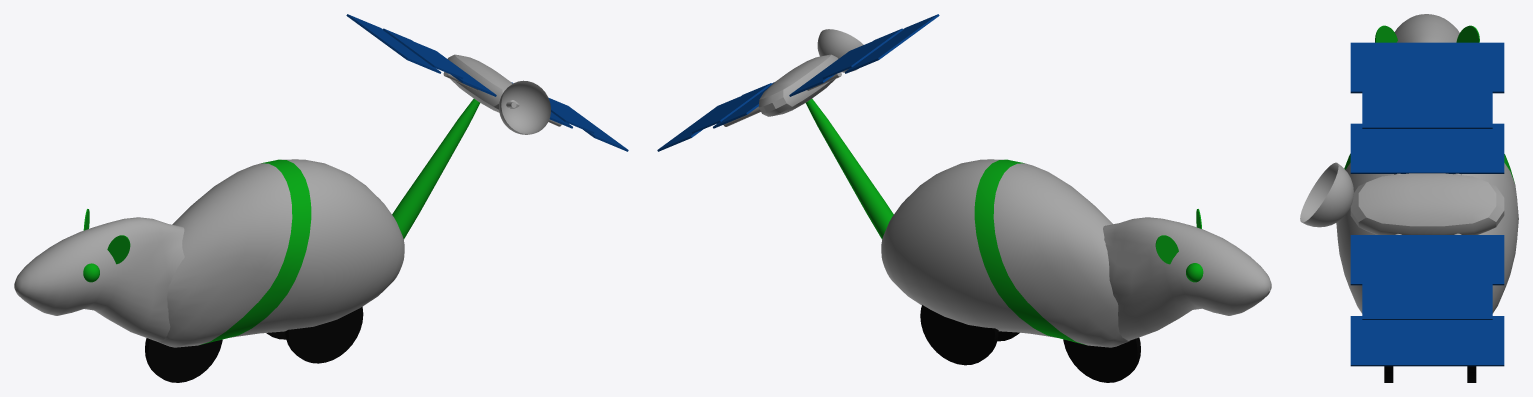
File: rat.fbx
3 views of the same model, side by side, from view 1: azimuth 30°, elevation 25°; view 2: azimuth 150°, elevation 25°; view 3: azimuth 270°, elevation 25° (orthographic). The views are drawn at different scales.
Visible parts, largest first — view 1: tete, Sphere, Cylinder, Cylinder.003, Cylinder.001, ears; view 2: tete, Sphere, Cylinder.004, Cylinder, Cylinder.001, ears; view 3: Sphere, tete, ears.
Part boxes in pixels (x1=…): tete: x1=14, y1=159, x2=404, y2=347; Sphere: x1=346, y1=14, x2=628, y2=151; Cylinder: x1=392, y1=99, x2=479, y2=239; Cylinder.003: x1=285, y1=306, x2=363, y2=363; Cylinder.001: x1=145, y1=338, x2=222, y2=382; ears: x1=83, y1=209, x2=130, y2=264; tete: x1=881, y1=159, x2=1271, y2=347; Sphere: x1=657, y1=14, x2=939, y2=151; Cylinder.004: x1=920, y1=305, x2=998, y2=365; Cylinder: x1=806, y1=99, x2=893, y2=239; Cylinder.001: x1=1063, y1=337, x2=1140, y2=382; ears: x1=1155, y1=209, x2=1201, y2=264; Sphere: x1=1300, y1=42, x2=1504, y2=366; tete: x1=1336, y1=14, x2=1518, y2=313; ears: x1=1375, y1=25, x2=1479, y2=42.
Size of the model in its own units: 232 by 113 by 59.51.
